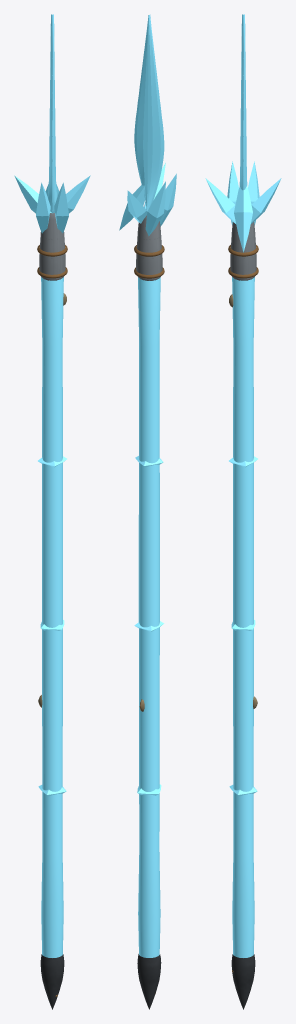
The model's file is ice-spear.lod1.glb.
3 views of the same model, side by side, from view 1: azimuth 90°, elevation 25°; view 2: azimuth 150°, elevation 25°; view 3: azimuth 270°, elevation 25° (orthographic).
Parts seen in each view (by area): view 1: crystal / faceted crystal, steel / forged blade steel, darksteel / oil-blackened fittings, bronze / cast bronze with patina; view 2: crystal / faceted crystal, steel / forged blade steel, darksteel / oil-blackened fittings, bronze / cast bronze with patina; view 3: crystal / faceted crystal, steel / forged blade steel, darksteel / oil-blackened fittings, bronze / cast bronze with patina.
Boxes of the visible parts, x1=… form: crystal / faceted crystal: x1=14, y1=14, x2=90, y2=957; steel / forged blade steel: x1=39, y1=213, x2=65, y2=280; darksteel / oil-blackened fittings: x1=40, y1=954, x2=64, y2=1009; bronze / cast bronze with patina: x1=37, y1=245, x2=67, y2=278; crystal / faceted crystal: x1=119, y1=14, x2=176, y2=957; steel / forged blade steel: x1=136, y1=215, x2=162, y2=280; darksteel / oil-blackened fittings: x1=137, y1=954, x2=161, y2=1009; bronze / cast bronze with patina: x1=134, y1=245, x2=164, y2=278; crystal / faceted crystal: x1=205, y1=14, x2=281, y2=957; steel / forged blade steel: x1=230, y1=222, x2=256, y2=280; darksteel / oil-blackened fittings: x1=231, y1=954, x2=255, y2=1009; bronze / cast bronze with patina: x1=228, y1=245, x2=258, y2=278.
Bounding box in the file's own units: 0.1163 × 2.12 × 0.1476.
Materials: 6 (3 with a texture image).
